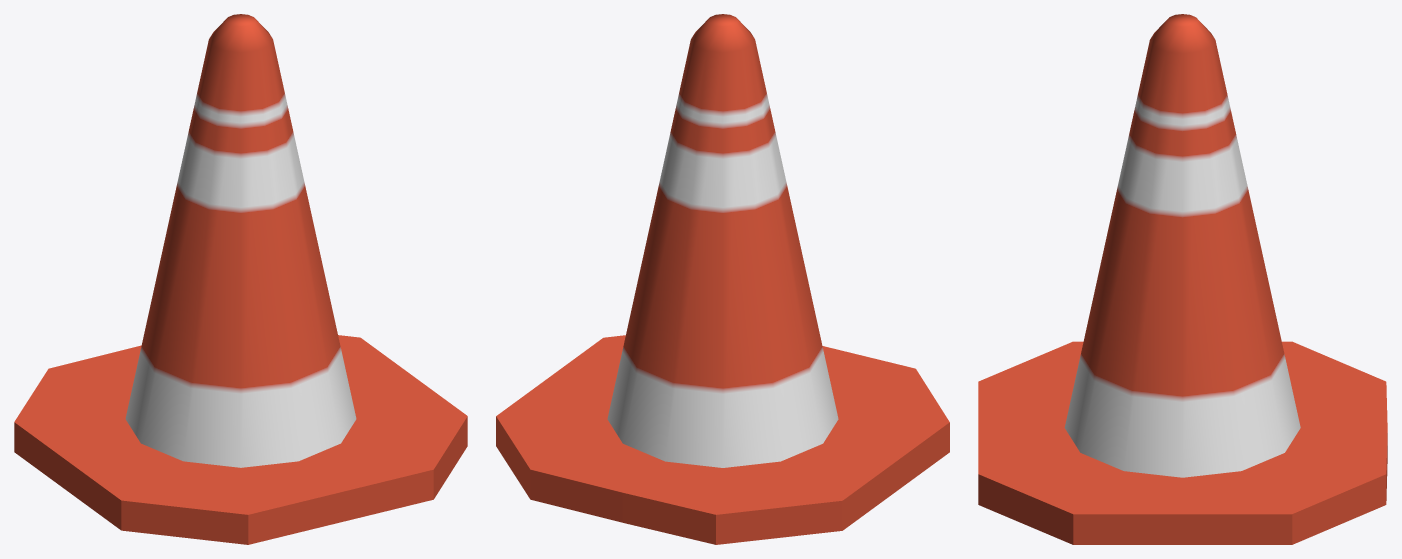
Rendered from Road Cone.fbx.
3 renders of one model, left to right at view 1: azimuth 30°, elevation 25°; view 2: azimuth 150°, elevation 25°; view 3: azimuth 270°, elevation 25°, orthographic. The views are drawn at different scales.
Parts seen in each view (by area): view 1: Road_Cone; view 2: Road_Cone; view 3: Road_Cone.
Part boxes in pixels (x1,y1,x2,y2): Road_Cone: (14,14,467,544); Road_Cone: (496,14,949,544); Road_Cone: (978,14,1387,544).
Size of the model in its own units: 7.37 by 8.72 by 7.38.
